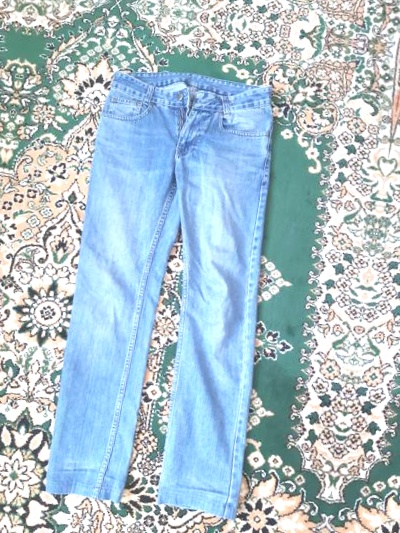Pants: (1, 38, 325, 533), (0, 523, 242, 533), (398, 105, 400, 533)
